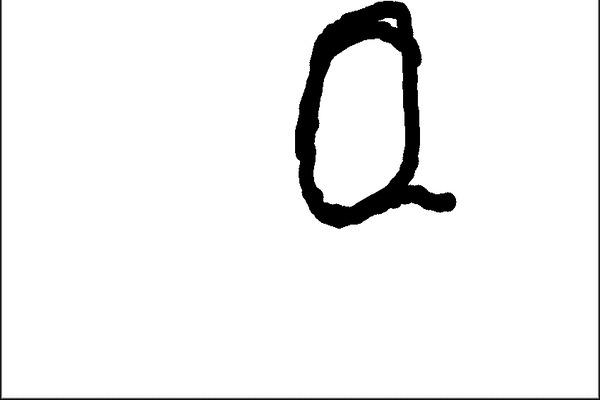Q: (281, 1, 471, 238)
